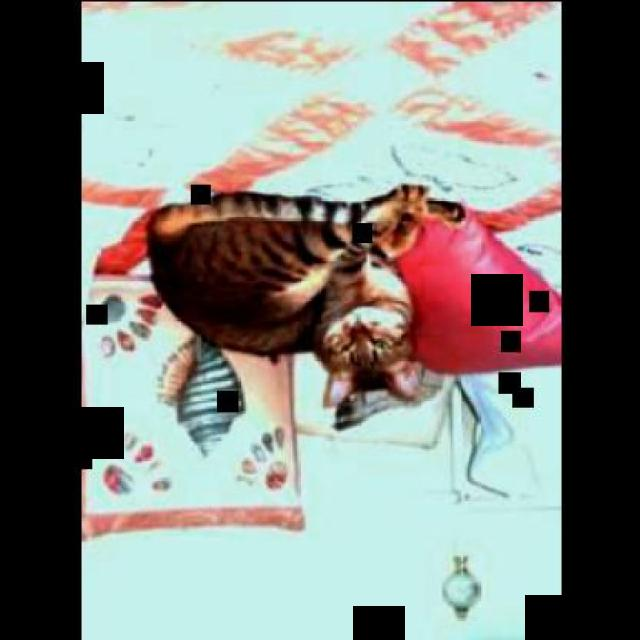unauthorized: (85, 180, 466, 429)
